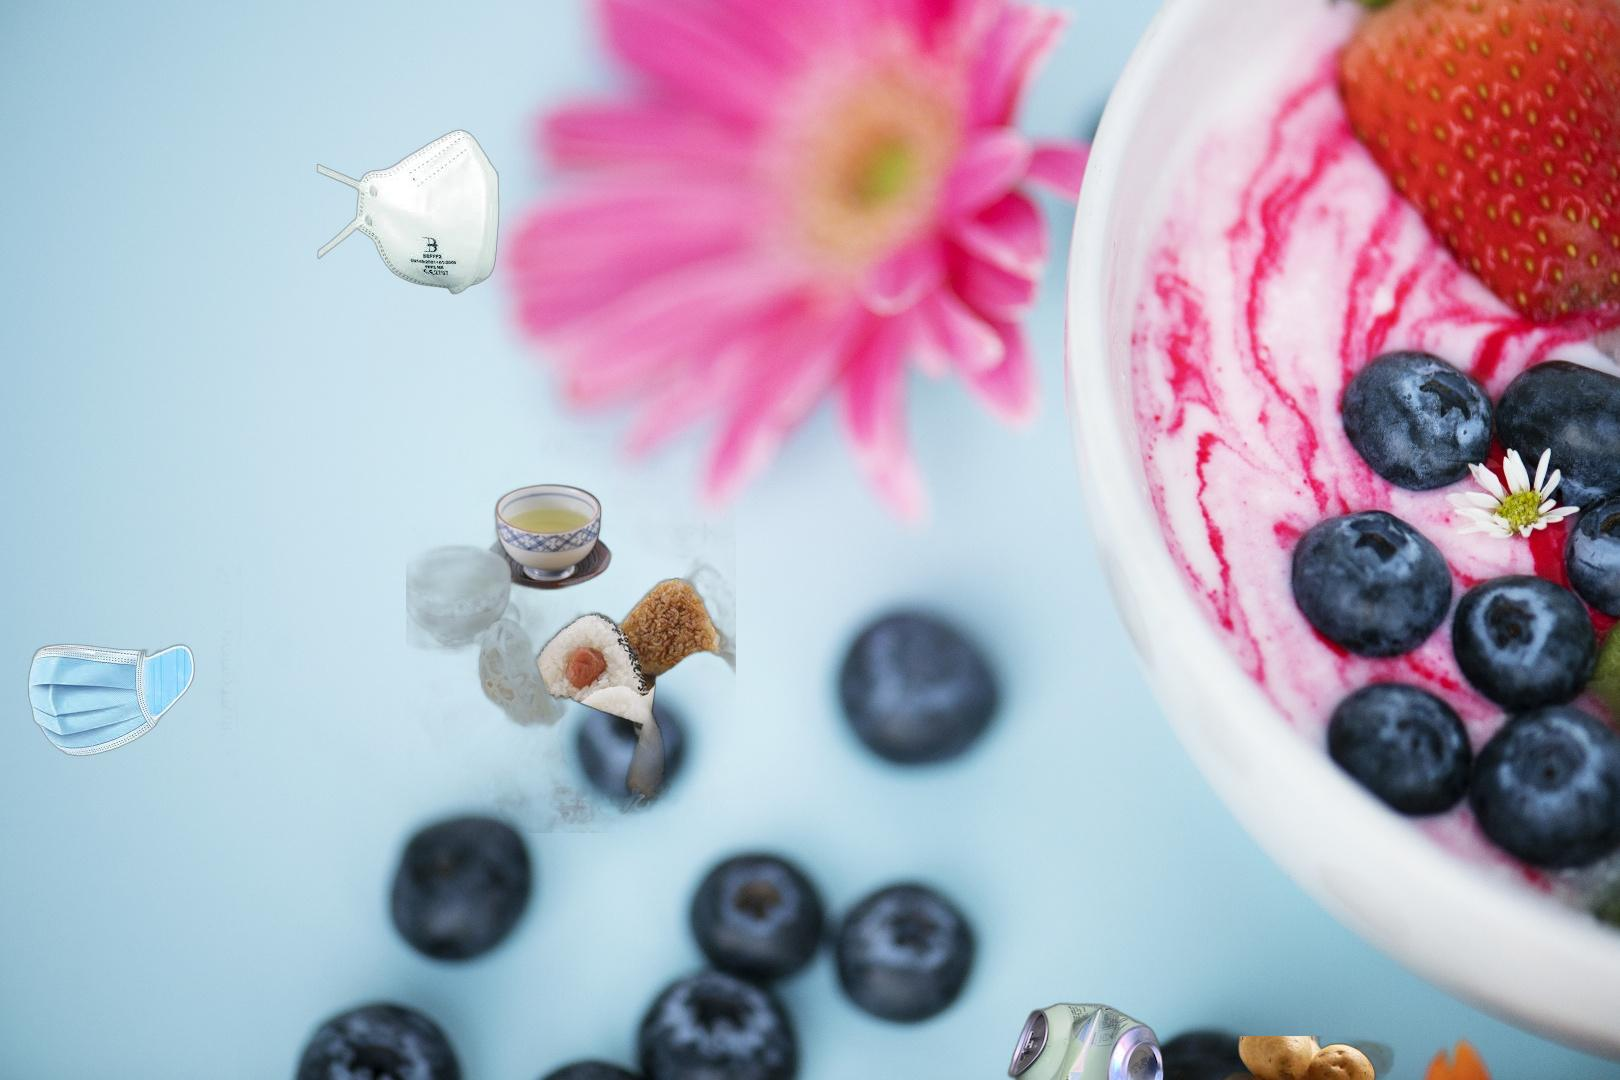biological: (406, 433, 736, 833), (1176, 1035, 1411, 1080)
metal-cans: (1005, 997, 1169, 1080)
trash: (25, 562, 245, 785), (315, 127, 501, 297)
